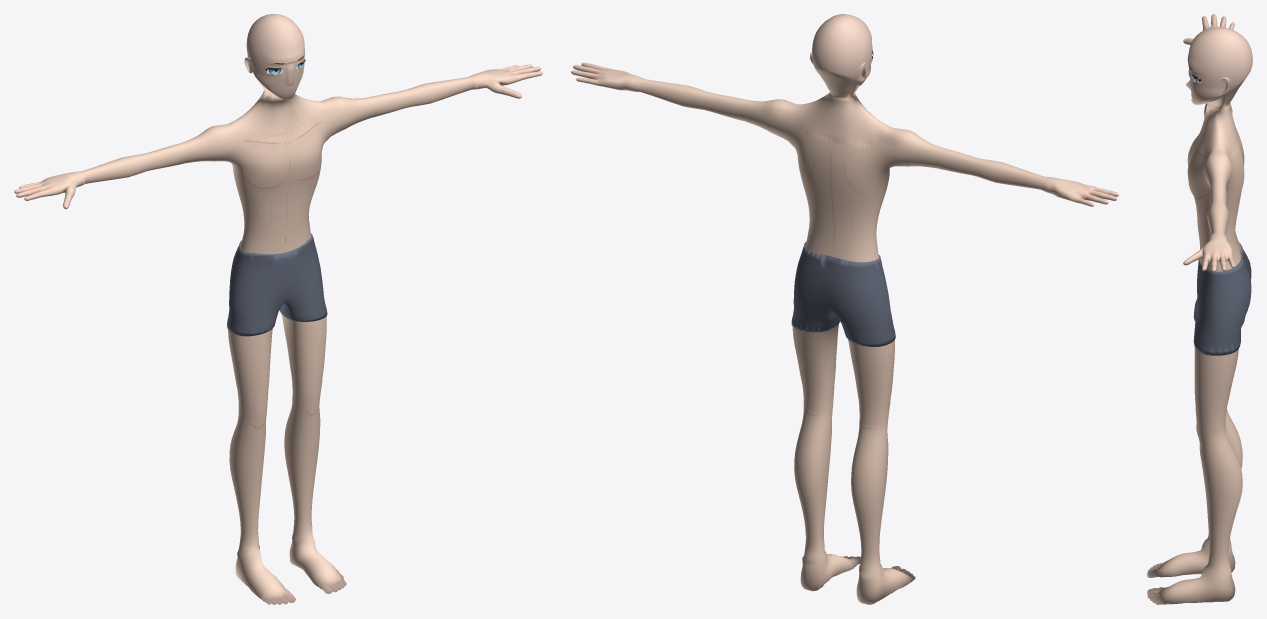
Rendered from enosh-t004.glb.
3 views of the same model, side by side, from view 1: azimuth 30°, elevation 25°; view 2: azimuth 150°, elevation 25°; view 3: azimuth 270°, elevation 25° (orthographic). The views are drawn at different scales.
Visible parts, largest first — view 1: Enosh_Skin, Enosh_Under_Short; view 2: Enosh_Skin, Enosh_Under_Short; view 3: Enosh_Skin, Enosh_Under_Short.
Boxes of the visible parts, x1=… form: Enosh_Skin: x1=14, y1=14, x2=542, y2=604; Enosh_Under_Short: x1=227, y1=233, x2=327, y2=336; Enosh_Skin: x1=571, y1=14, x2=1118, y2=604; Enosh_Under_Short: x1=791, y1=241, x2=895, y2=346; Enosh_Skin: x1=1147, y1=14, x2=1252, y2=604; Enosh_Under_Short: x1=1193, y1=243, x2=1251, y2=355.
Bounding box in the file's own units: 1.72 × 1.74 × 0.2994.
Materials: 16 (14 with a texture image).
